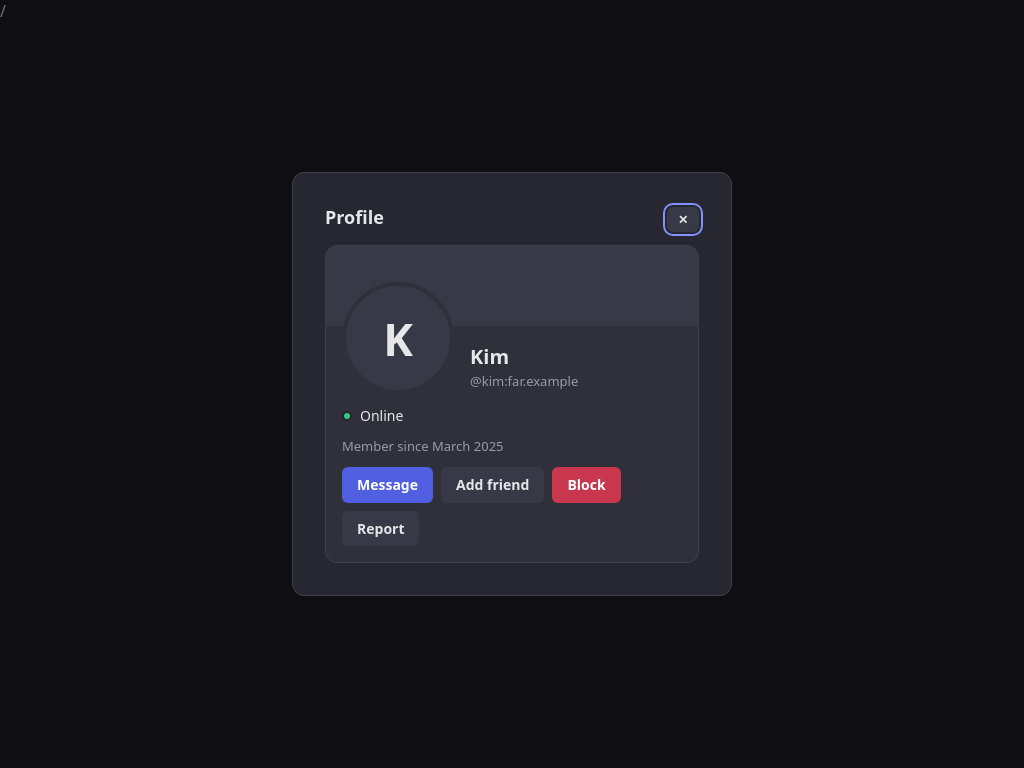
Test case: the profile dialog on a private server › says so when only that person's server is off limits
Click the button "Add friend". click: x=493, y=485
box: [441,467,544,502]
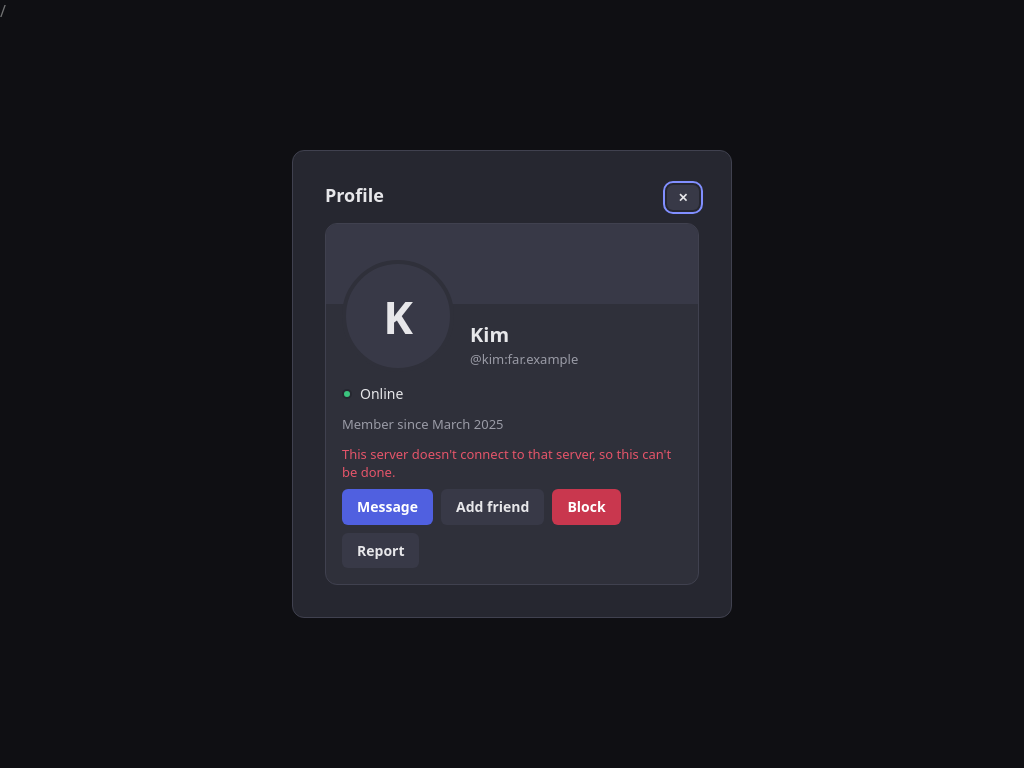
Now the message reads "This server doesn't connect to that server, so this can't be done.", box [342,445,671,481]
